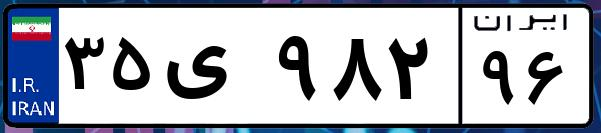2: (385, 28, 445, 110)
3: (57, 26, 110, 100)
5: (110, 28, 158, 98)
6: (525, 38, 570, 115)
8: (330, 28, 385, 110)
9: (270, 28, 330, 110), (475, 38, 525, 113)
ی: (158, 20, 270, 120)
